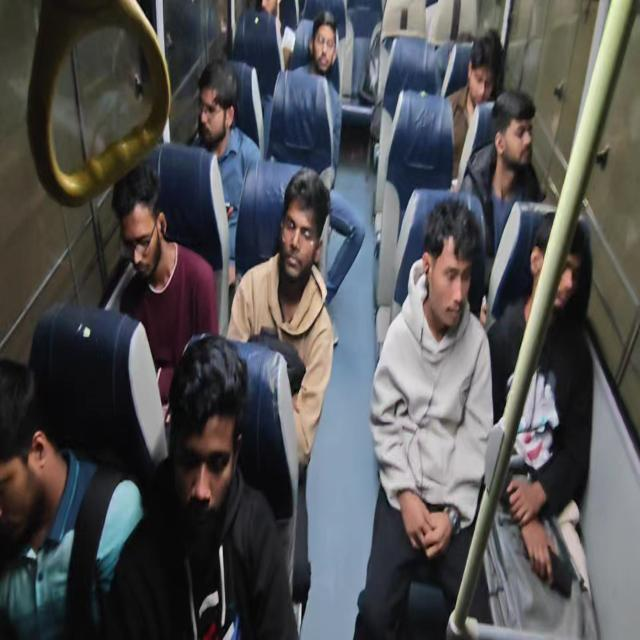person: (4, 2, 602, 637), (353, 196, 494, 638), (104, 332, 300, 639), (483, 211, 597, 637), (0, 356, 144, 638), (226, 166, 334, 469), (111, 162, 219, 406), (28, 301, 168, 481), (457, 88, 546, 315), (187, 58, 262, 284), (444, 29, 503, 185), (292, 9, 342, 187), (294, 10, 340, 94), (260, 0, 296, 71)
